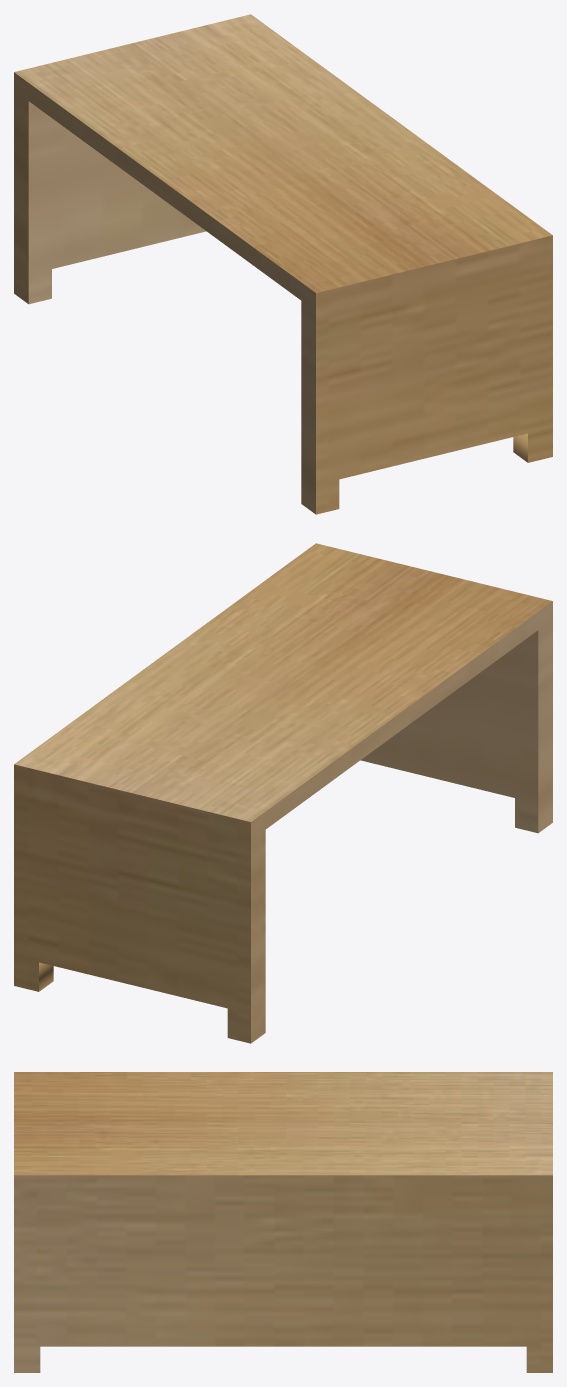
Rendered from Teacher'sTable.fbx.
The picture shows the model from 3 angles, top to bottom: view 1: azimuth 30°, elevation 25°; view 2: azimuth 150°, elevation 25°; view 3: azimuth 270°, elevation 25°; orthographic projection. The views are drawn at different scales.
Visible parts, largest first — view 1: Teacher_sTable; view 2: Teacher_sTable; view 3: Teacher_sTable.
Part boxes in pixels (x1,y1,x2,y2): Teacher_sTable: (14, 14, 552, 514); Teacher_sTable: (14, 543, 552, 1043); Teacher_sTable: (14, 1072, 552, 1372).
Size of the model in its own units: 0.0266 by 0.0237 by 0.0587.
